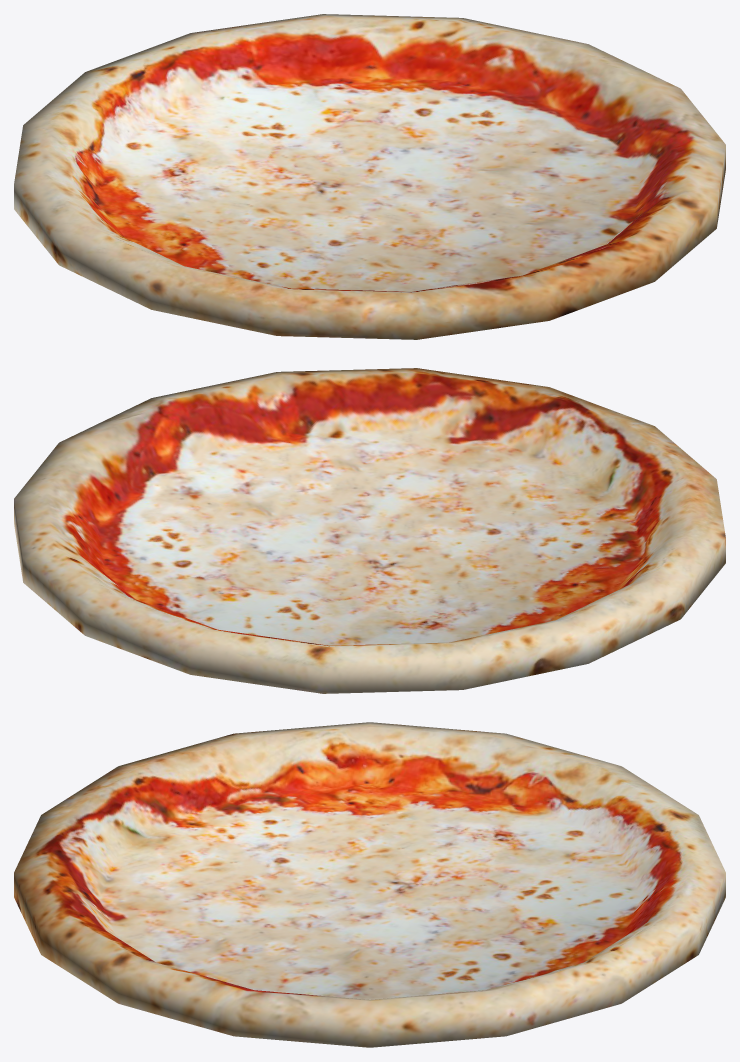
File: DoughBaked.fbx
The picture shows the model from 3 angles, top to bottom: view 1: azimuth 30°, elevation 25°; view 2: azimuth 150°, elevation 25°; view 3: azimuth 270°, elevation 25°; orthographic projection.
Parts seen in each view (by area): view 1: DoughBaked; view 2: DoughBaked; view 3: DoughBaked.
Part boxes in pixels (x1,y1,x2,y2): DoughBaked: (14,14,725,339); DoughBaked: (14,368,725,693); DoughBaked: (14,722,725,1047).
Bounding box in the file's own units: 65.67 × 4.11 × 65.67.
Materials: 1 (1 with a texture image).
